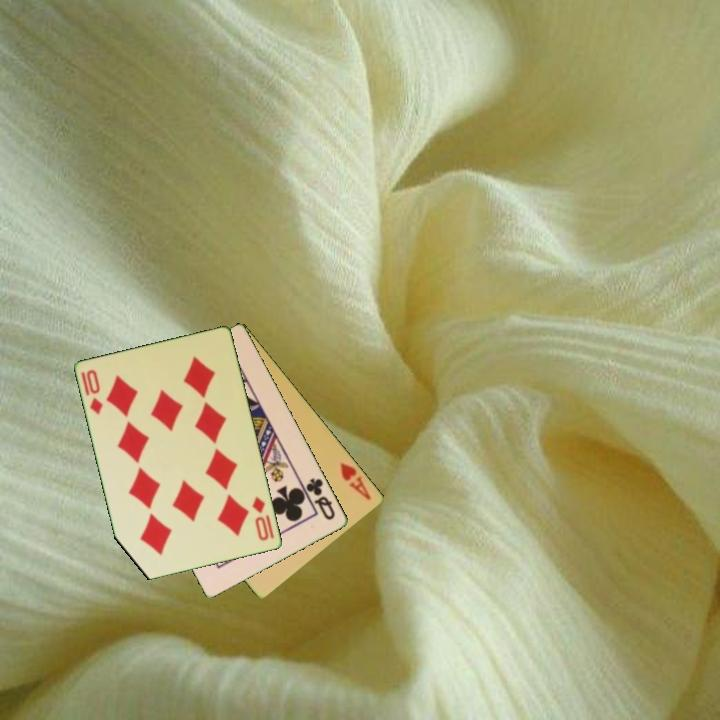10d: (78, 366, 106, 418), (249, 493, 272, 544)
Ah: (337, 459, 375, 503)
Qc: (303, 474, 338, 523)
